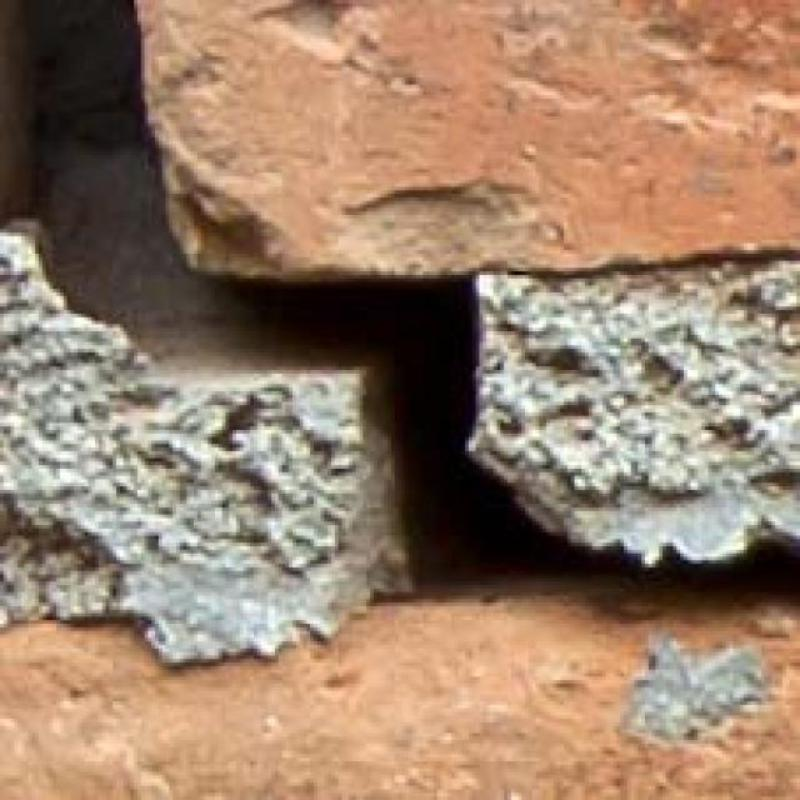pothole: (0, 1, 800, 620)
